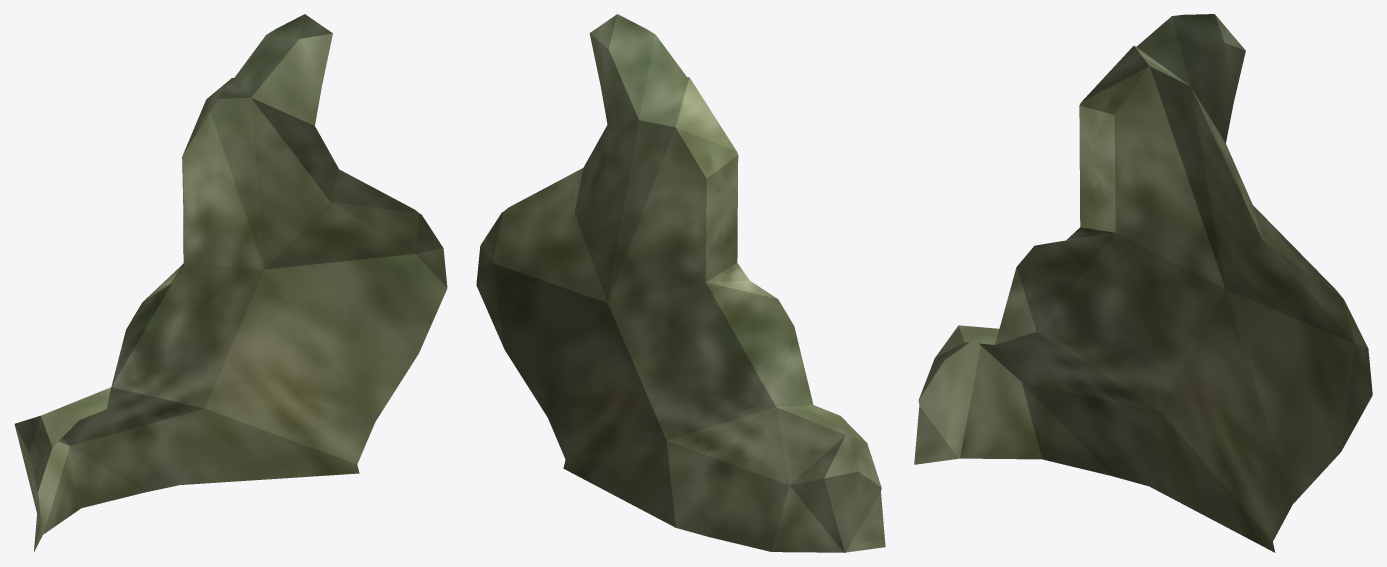
3 views of the same model, side by side, from view 1: azimuth 30°, elevation 25°; view 2: azimuth 150°, elevation 25°; view 3: azimuth 330°, elevation 25° (orthographic). The views are drawn at different scales.
Size of the model in its own units: 0.9071 by 0.9907 by 0.1549.
1 material, 1 textured.
